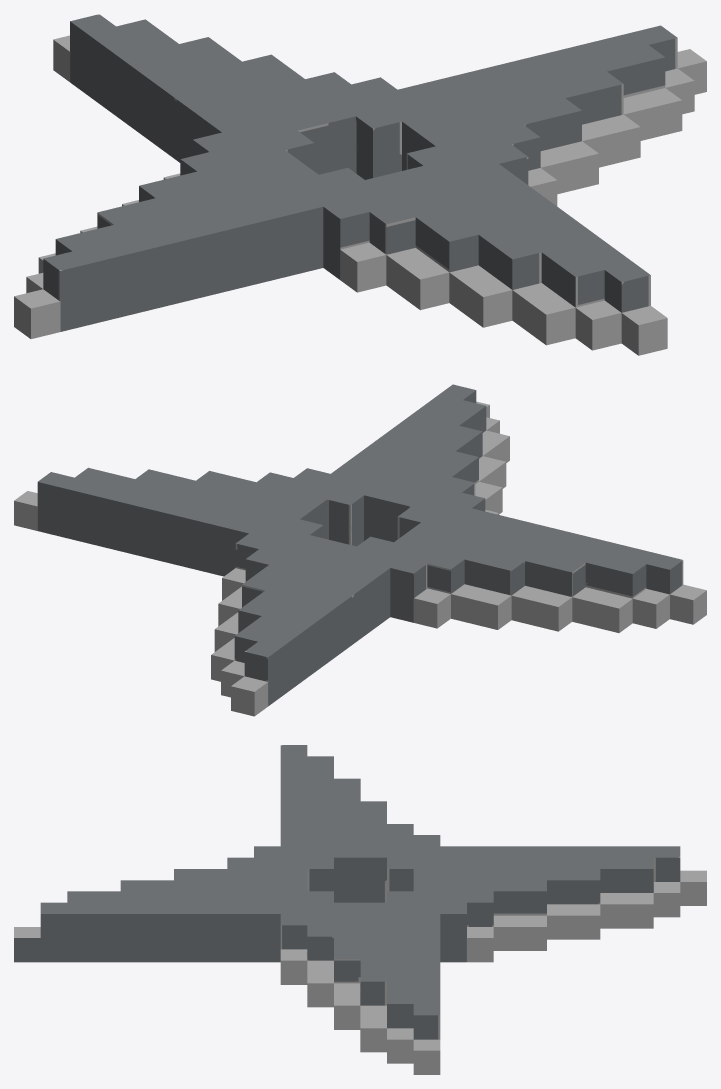
File: Shuriken1.fbx
3 views of the same model, one above another, from view 1: azimuth 30°, elevation 25°; view 2: azimuth 150°, elevation 25°; view 3: azimuth 270°, elevation 25° (orthographic). The views are drawn at different scales.
Parts seen in each view (by area): view 1: Shuriken; view 2: Shuriken; view 3: Shuriken.
Boxes of the visible parts, box(x1,y1,x2,y2) form: Shuriken: box(14, 14, 706, 355); Shuriken: box(14, 384, 706, 716); Shuriken: box(14, 745, 706, 1074).
Size of the model in its own units: 5200 by 400 by 5200.
1 material, 1 textured.
